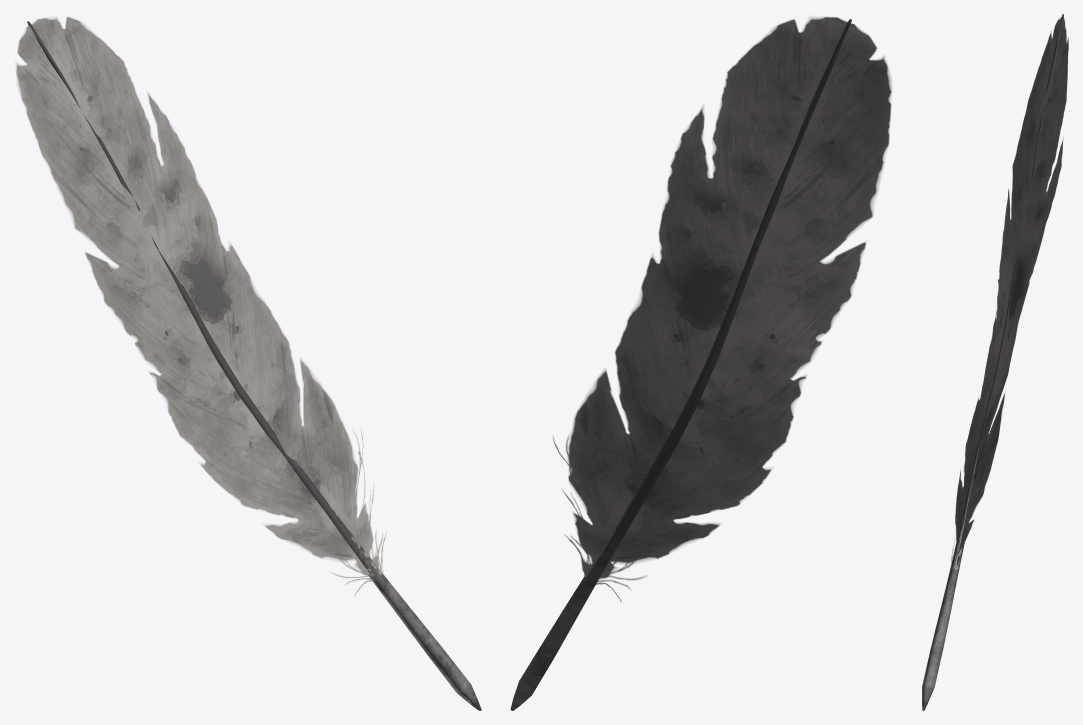
File: free_quill-pen__lowpoly.glb
3 renders of one model, left to right at view 1: azimuth 30°, elevation 25°; view 2: azimuth 150°, elevation 25°; view 3: azimuth 270°, elevation 25°, orthographic. The views are drawn at different scales.
Parts seen in each view (by area): view 1: quill_pen_1_low, quill_pen_2_low, quill_pen_3_low; view 2: quill_pen_1_low, quill_pen_2_low, quill_pen_3_low; view 3: quill_pen_1_low, quill_pen_2_low, quill_pen_3_low.
Part boxes in pixels (x1,y1,x2,y2): quill_pen_1_low: [16, 17, 378, 575]; quill_pen_2_low: [27, 21, 481, 710]; quill_pen_3_low: [330, 426, 386, 596]; quill_pen_1_low: [568, 16, 891, 579]; quill_pen_2_low: [510, 19, 851, 710]; quill_pen_3_low: [553, 435, 646, 602]; quill_pen_1_low: [955, 17, 1068, 566]; quill_pen_2_low: [922, 14, 1063, 710]; quill_pen_3_low: [951, 466, 990, 570].
Bounding box in the file's own units: 0.0573 × 0.1008 × 0.024.
Materials: 1 (1 with a texture image).
